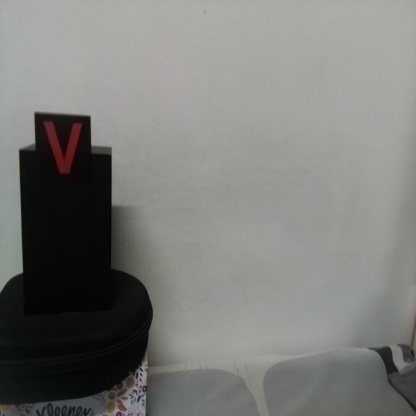id_11: (34, 113, 91, 191)
